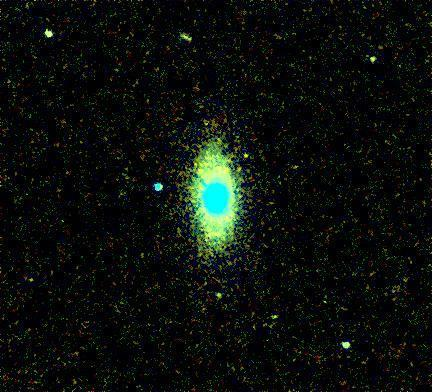star: (229, 140, 259, 170)
